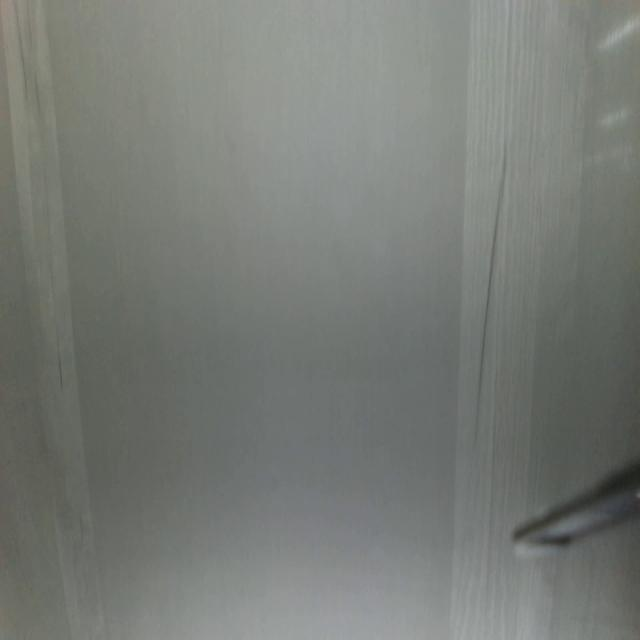crease: (1, 1, 105, 631), (454, 0, 558, 504)
